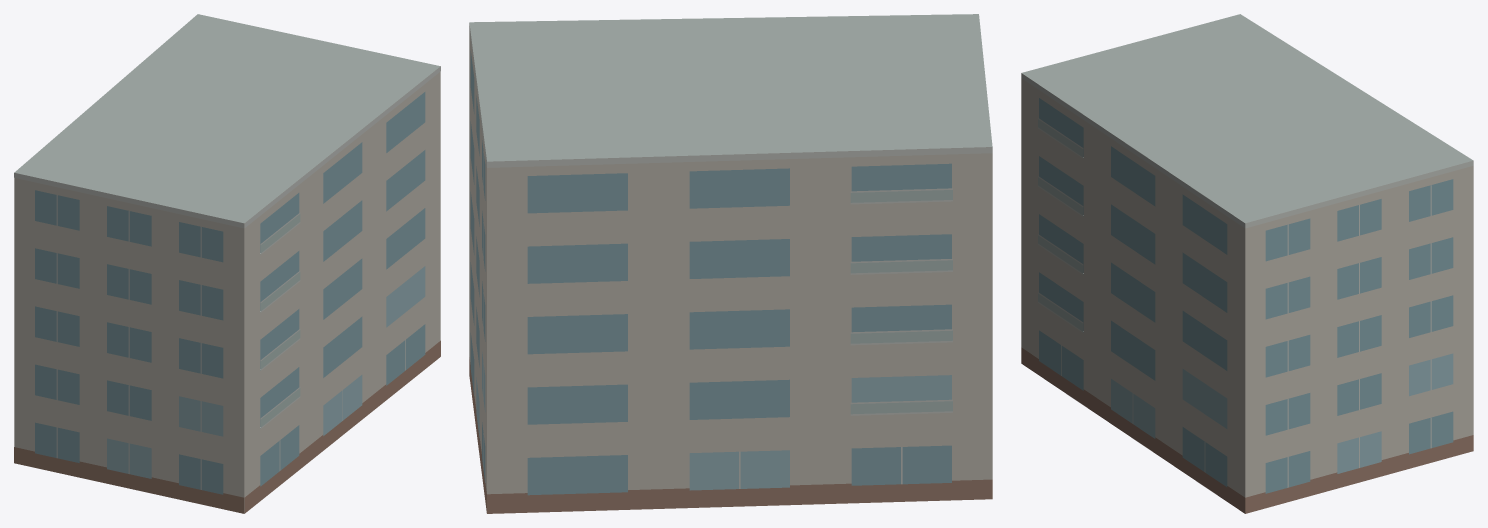
The model's file is survey-upis-32892604.glb.
The picture shows the model from 3 angles, left to right: view 1: azimuth 30°, elevation 25°; view 2: azimuth 150°, elevation 25°; view 3: azimuth 270°, elevation 25°; orthographic projection. The views are drawn at different scales.
Visible parts, largest first — view 1: survey-upis-32892604.tmp; view 2: survey-upis-32892604.tmp; view 3: survey-upis-32892604.tmp.
Part boxes in pixels (x1,y1,x2,y2): survey-upis-32892604.tmp: (14,14,440,513); survey-upis-32892604.tmp: (469,14,992,513); survey-upis-32892604.tmp: (1021,14,1473,513).
Bounding box in the file's own units: 21.34 × 13.8 × 19.48.
